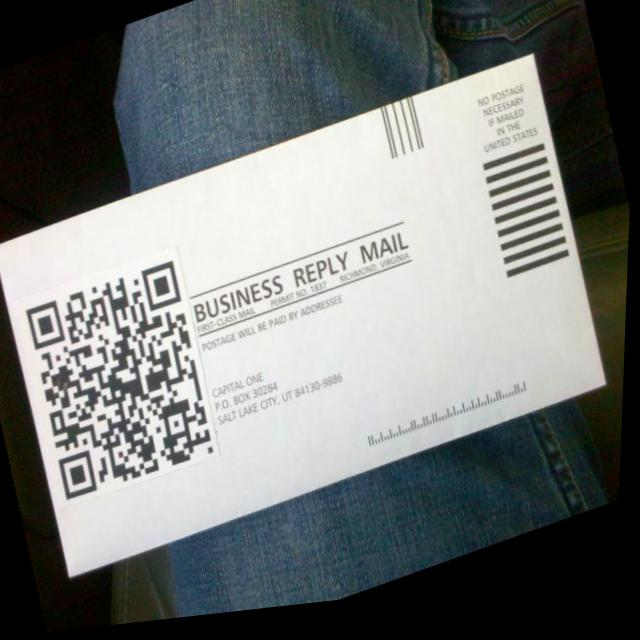qrcode: (24, 259, 224, 511)
